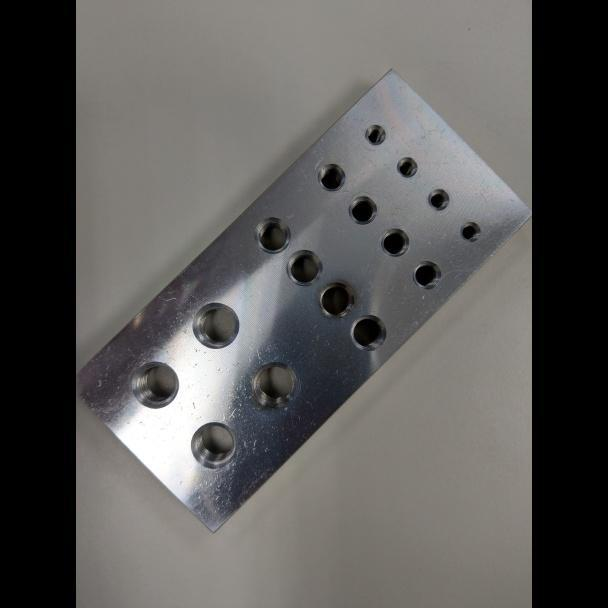hole: (129, 361, 180, 409), (190, 301, 240, 349), (189, 421, 237, 470), (250, 361, 298, 409), (317, 281, 356, 319), (253, 216, 291, 254), (285, 249, 323, 287), (349, 314, 387, 351), (380, 227, 410, 258), (348, 195, 378, 225), (317, 162, 346, 191), (412, 260, 441, 289), (364, 123, 387, 146), (427, 188, 449, 211), (459, 221, 482, 242), (395, 156, 417, 177)
